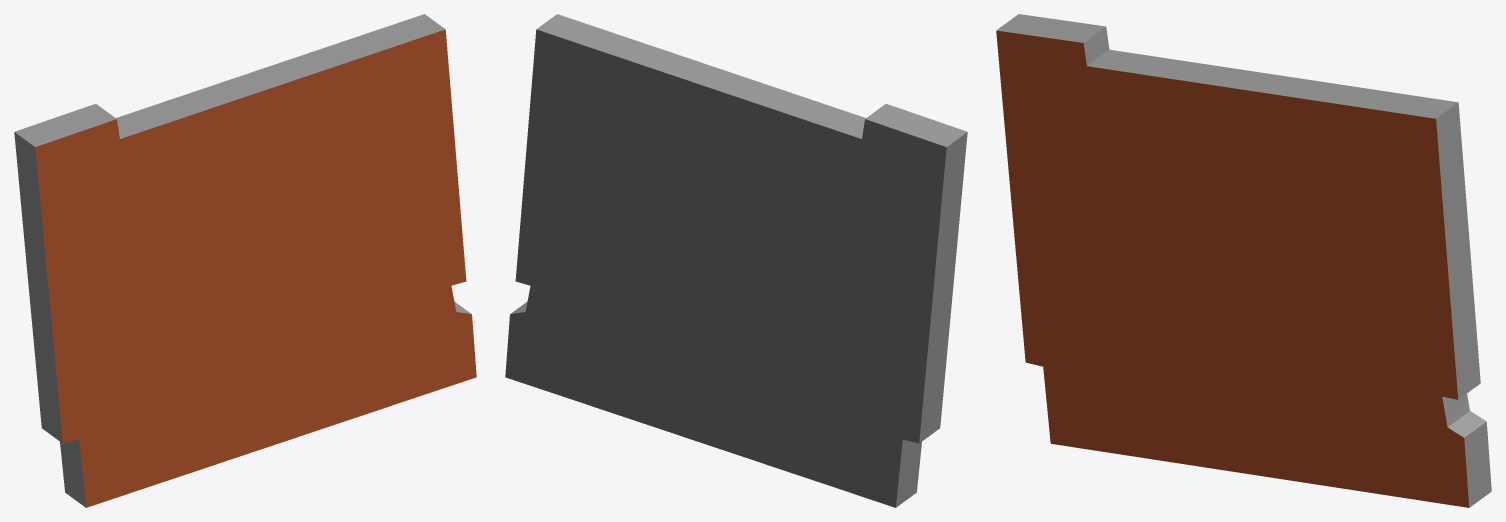
The model's file is construction_0167_assumed_A_Construcoes_desportivas_h6m.obj.
The picture shows the model from 3 angles, left to right: view 1: azimuth 30°, elevation 25°; view 2: azimuth 150°, elevation 25°; view 3: azimuth 330°, elevation 25°; orthographic projection. The views are drawn at different scales.
Visible parts, largest first — view 1: construction_0167_assumed_A_Construcoes_desportivas; view 2: construction_0167_assumed_A_Construcoes_desportivas; view 3: construction_0167_assumed_A_Construcoes_desportivas.
Boxes of the visible parts, left/top/right/bottom form: construction_0167_assumed_A_Construcoes_desportivas: left=14, top=14, right=476, bottom=507; construction_0167_assumed_A_Construcoes_desportivas: left=505, top=14, right=967, bottom=507; construction_0167_assumed_A_Construcoes_desportivas: left=996, top=14, right=1491, bottom=507.
Bounding box in the file's own units: 72.7 × 61.51 × 6.
